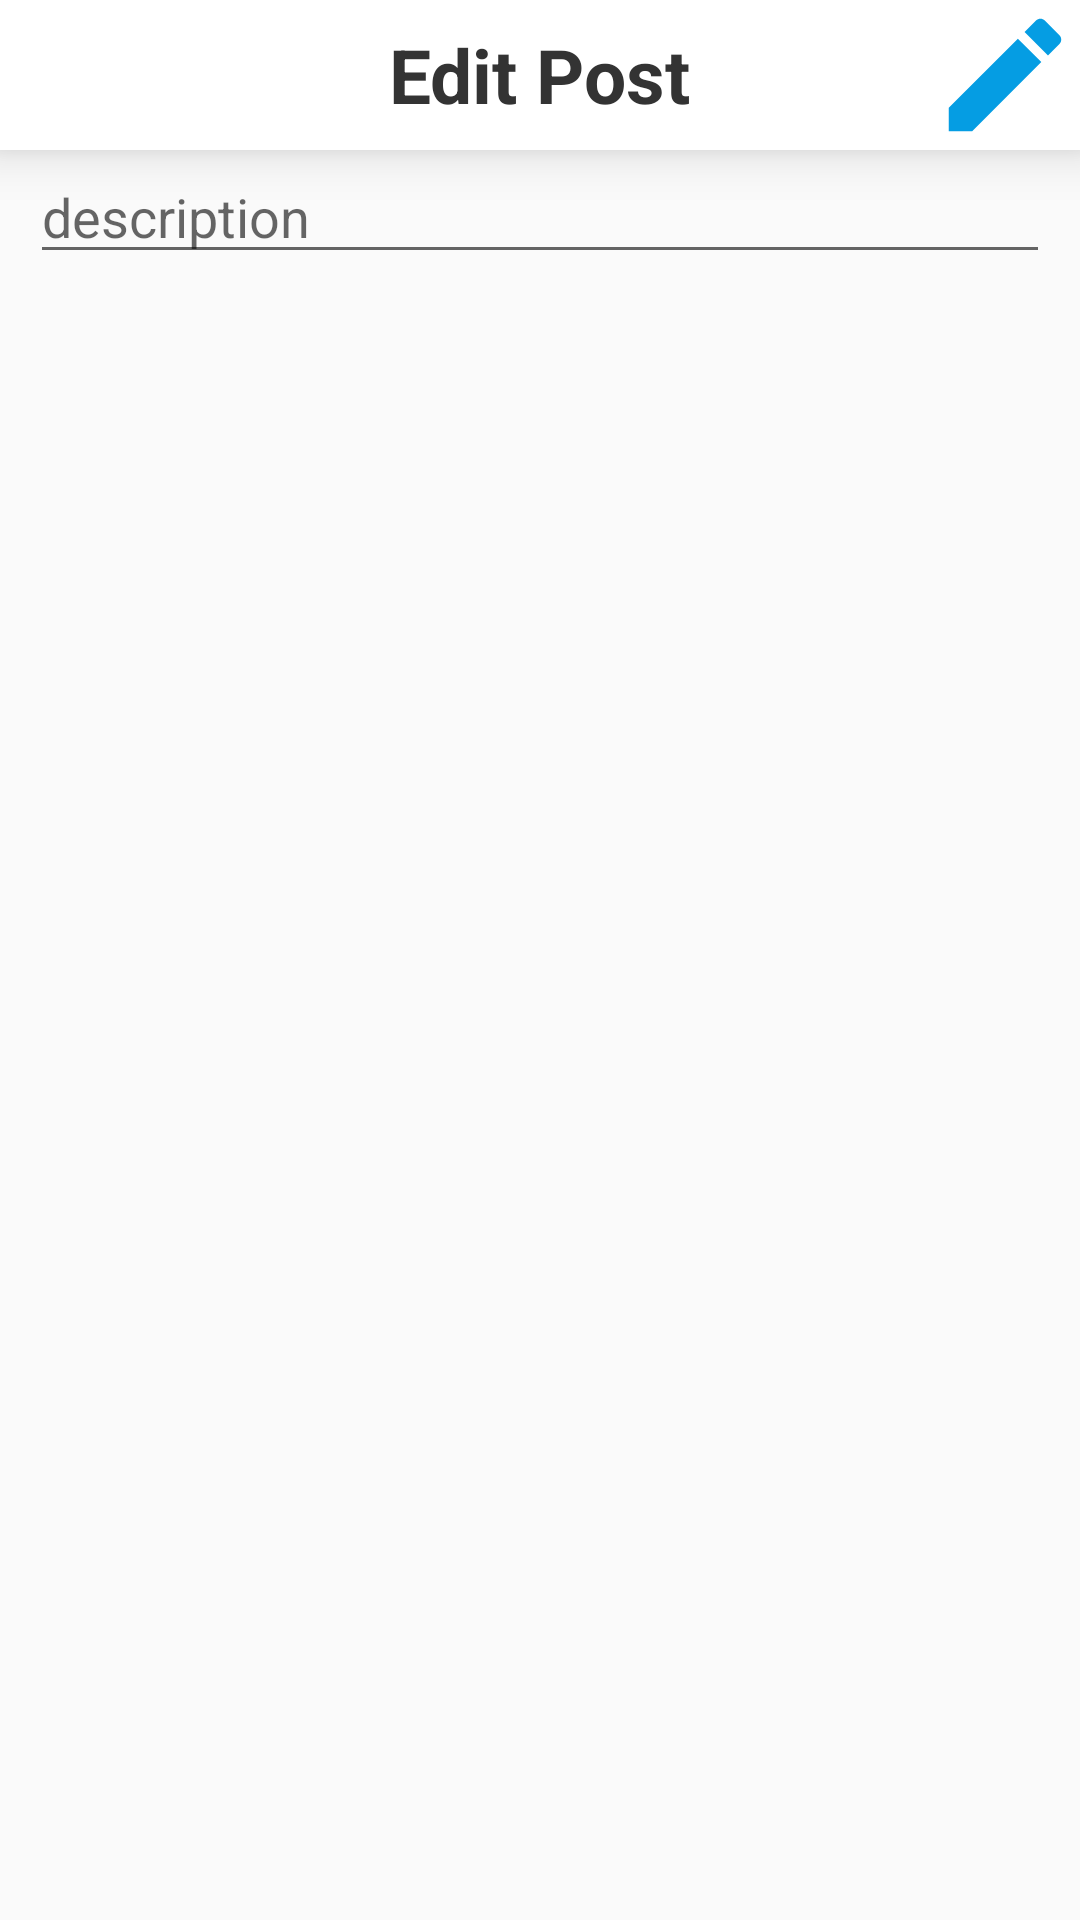

Icons on this 1080px×1920px Android screen, each with its box as {"x1": x1, "y1": y1, "x2": x2, "y2": y2}:
edit highlight: {"x1": 948, "y1": 18, "x2": 1062, "y2": 132}
